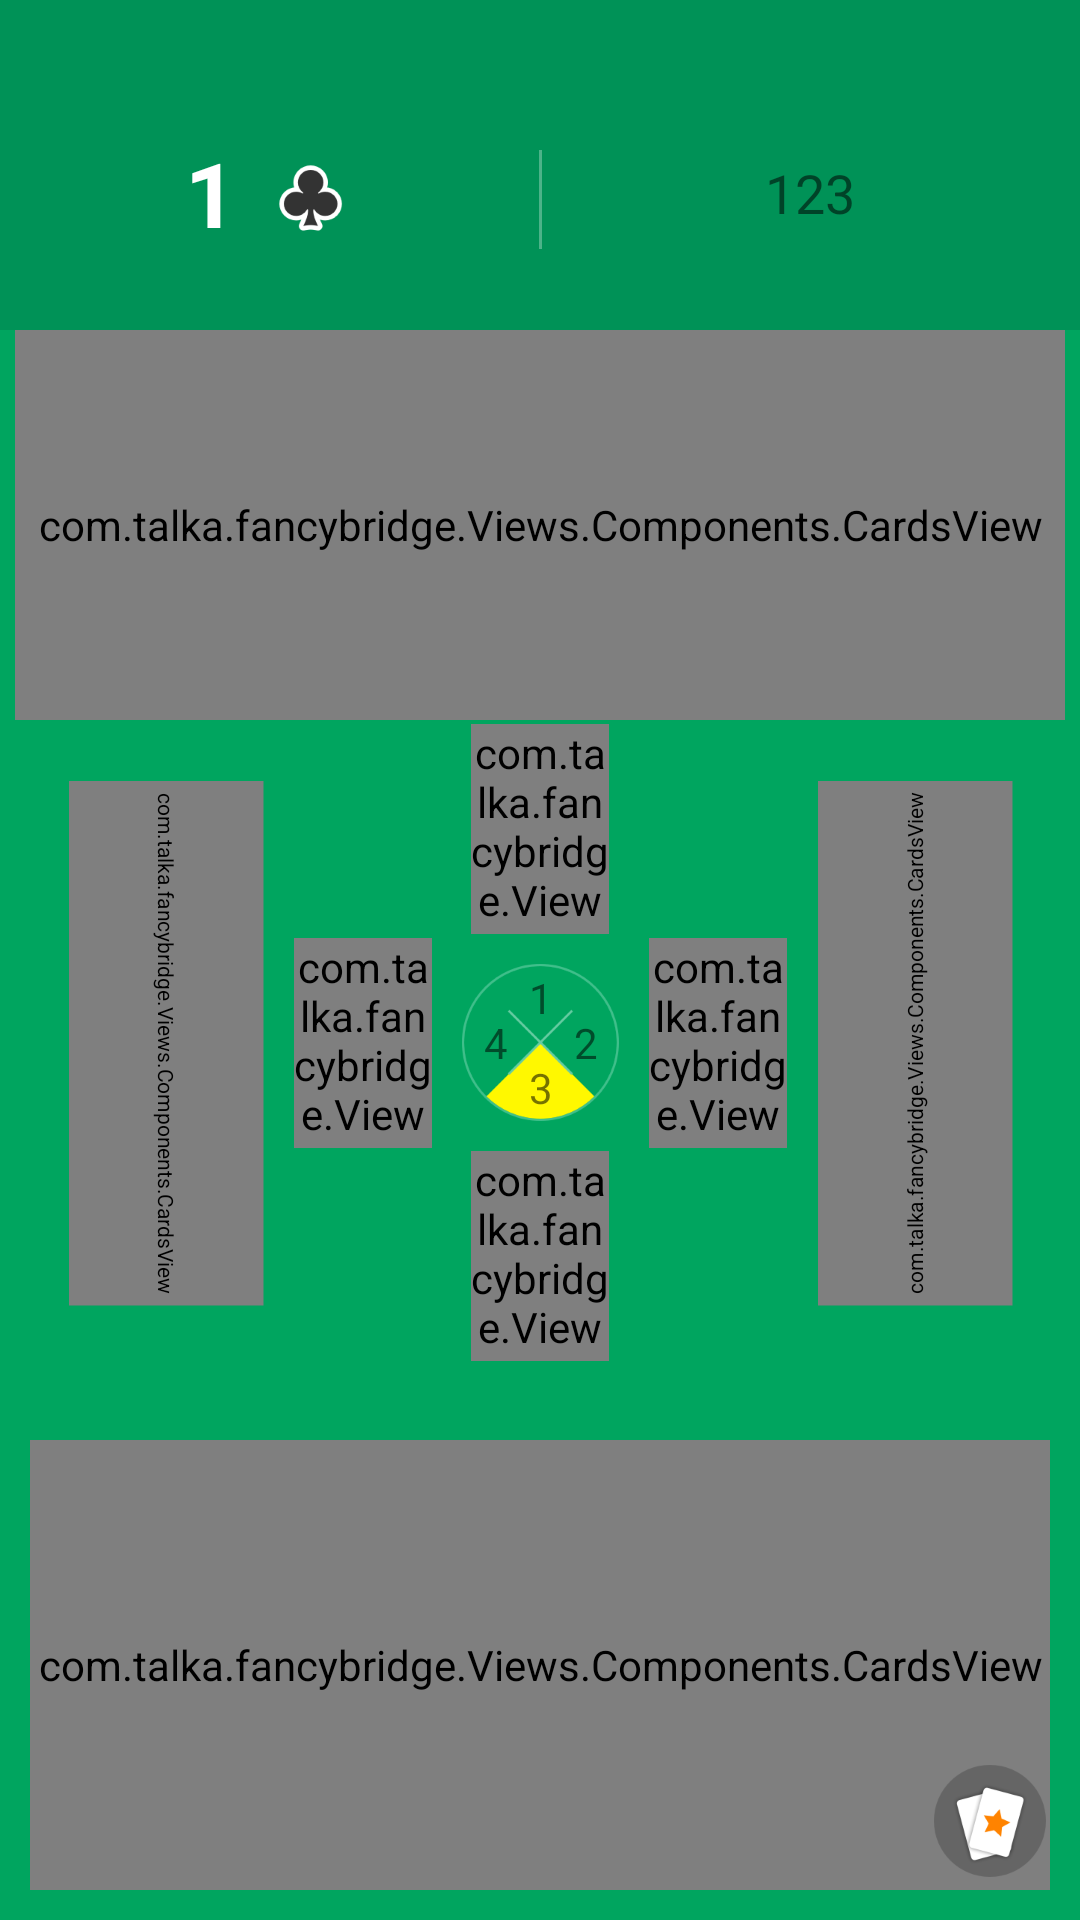

Screen size 1080×1920. Icon name, then its center in pixels as point (x, y):
border clubs: point (310, 198)
turn: point (540, 1042)
